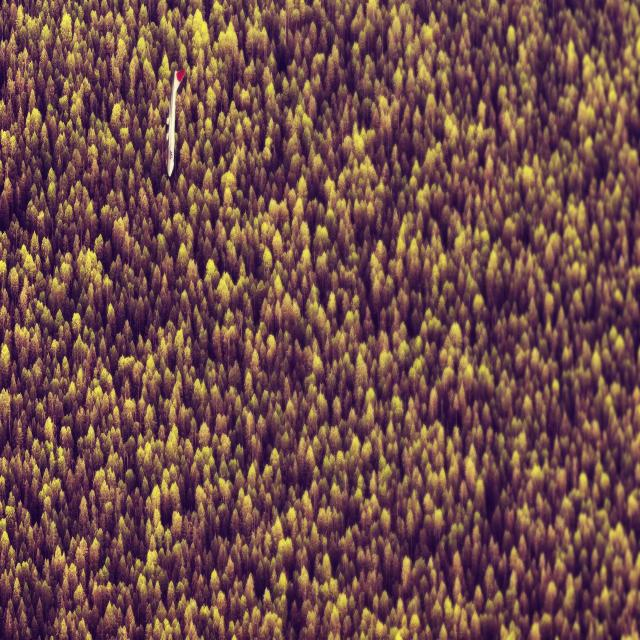airplane: (165, 68, 185, 177)
